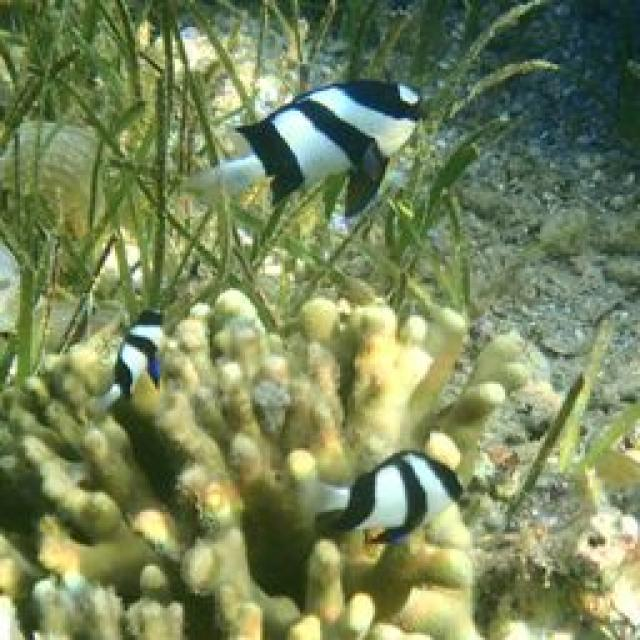Three_striped DasmselFish: (187, 81, 423, 220), (278, 453, 466, 550), (86, 300, 166, 423)
